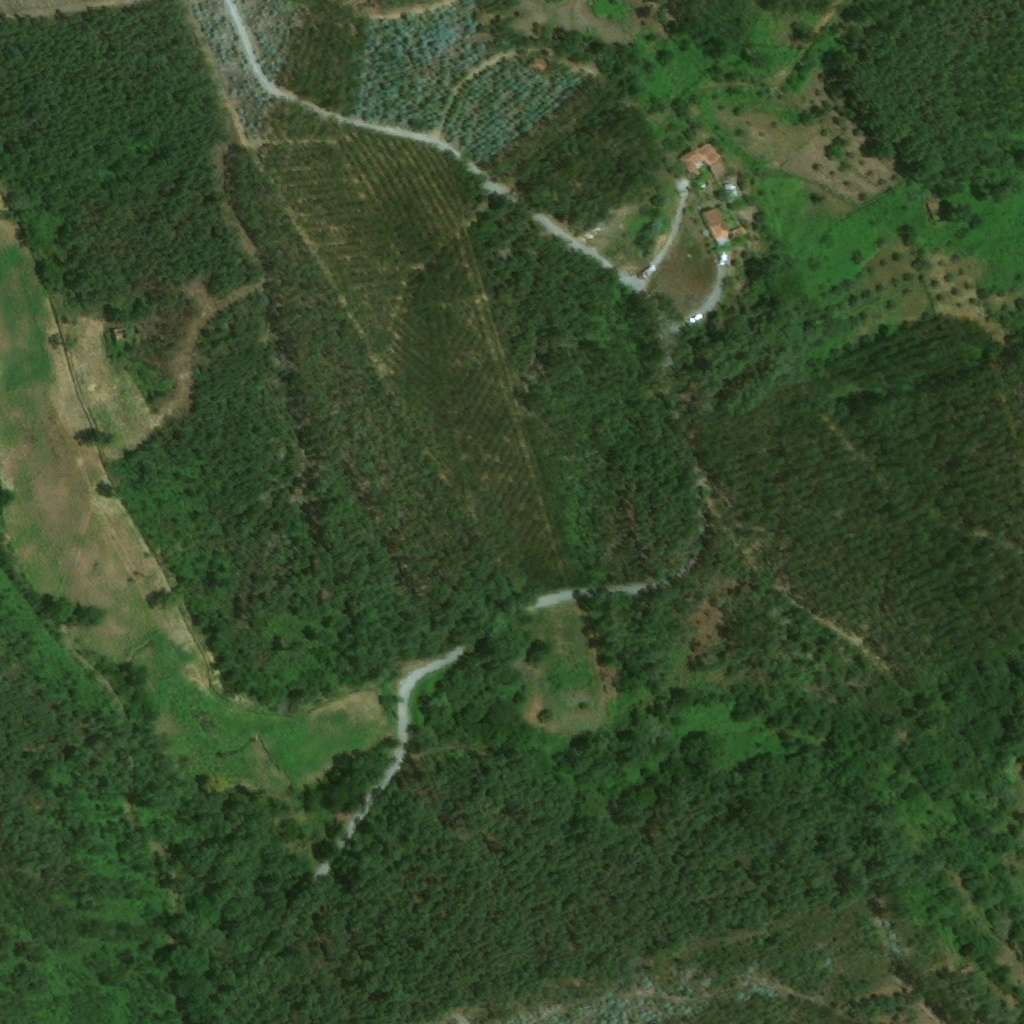0 no-damage: (673, 137, 728, 183), (699, 204, 735, 247), (925, 194, 944, 214)
